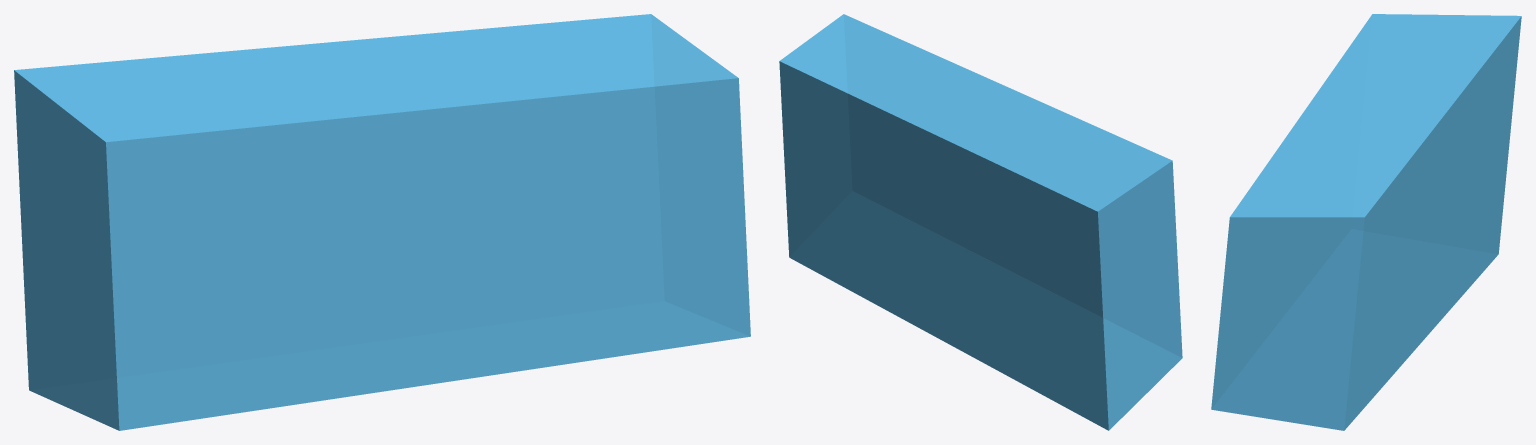
File: Event_421115418_HErechit_82.fbx
3 renders of one model, left to right at view 1: azimuth 30°, elevation 25°; view 2: azimuth 150°, elevation 25°; view 3: azimuth 270°, elevation 25°, orthographic. The views are drawn at different scales.
Visible parts, largest first — view 1: Model; view 2: Model; view 3: Model.
Boxes of the visible parts, box(x1,y1,x2,y2) form: Model: box(14, 14, 750, 430); Model: box(779, 14, 1182, 430); Model: box(1211, 14, 1521, 430).
Bounding box in the file's own units: 1.29 × 0.7067 × 0.8343.
